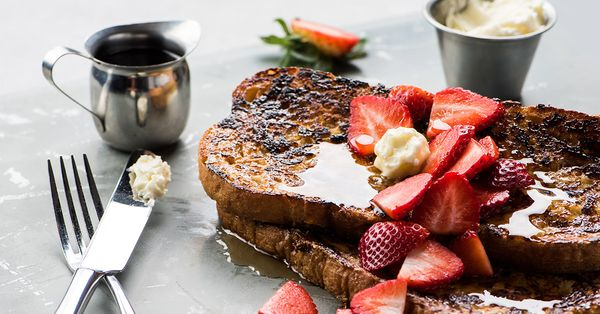sandwich: (58, 150, 171, 312)
soup: (195, 66, 595, 306)
sushi: (422, 1, 558, 102)
